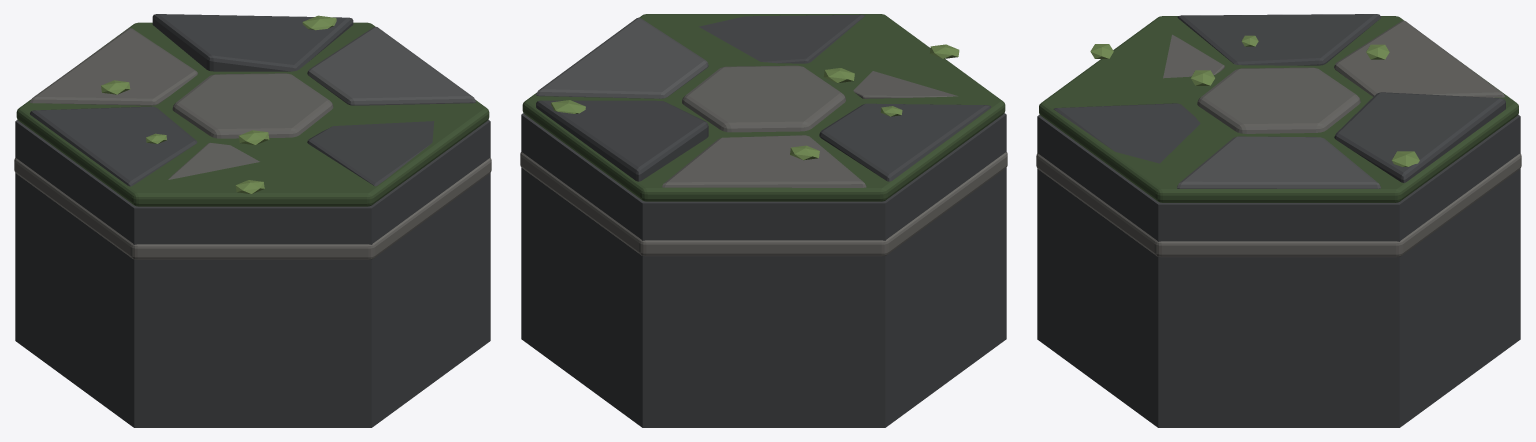
The model's file is hex_flag.glb.
The picture shows the model from 3 angles, left to right: view 1: azimuth 30°, elevation 25°; view 2: azimuth 150°, elevation 25°; view 3: azimuth 270°, elevation 25°; orthographic projection. The views are drawn at different scales.
Visible parts, largest first — view 1: hex_flag; view 2: hex_flag; view 3: hex_flag.
Part boxes in pixels (box(x1,y1,x2,y2)): hex_flag: box(14, 14, 491, 427); hex_flag: box(520, 14, 1007, 427); hex_flag: box(1036, 14, 1521, 427).
Size of the model in its own units: 1.71 by 1.12 by 1.97.
